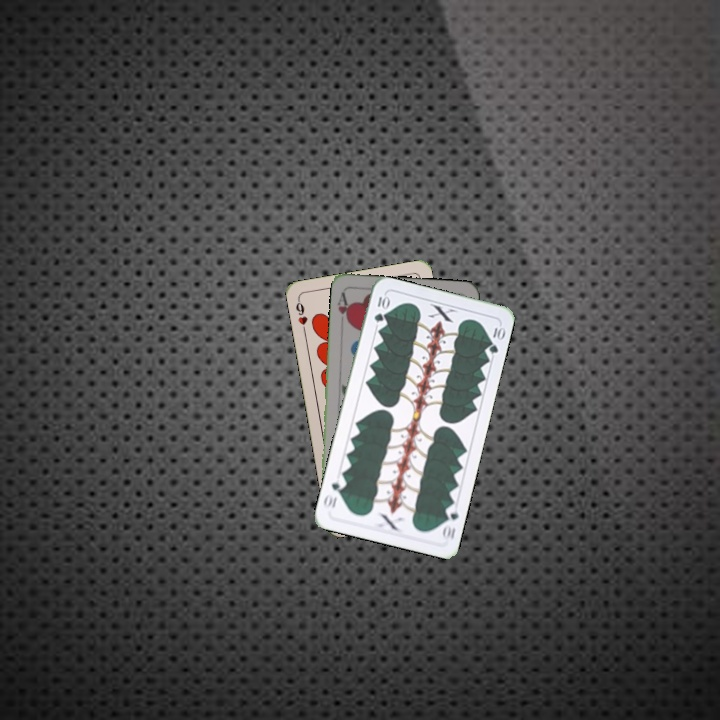G10: (438, 501, 461, 542), (370, 292, 391, 325)
H9: (292, 295, 310, 336)
HA: (333, 288, 353, 325)
